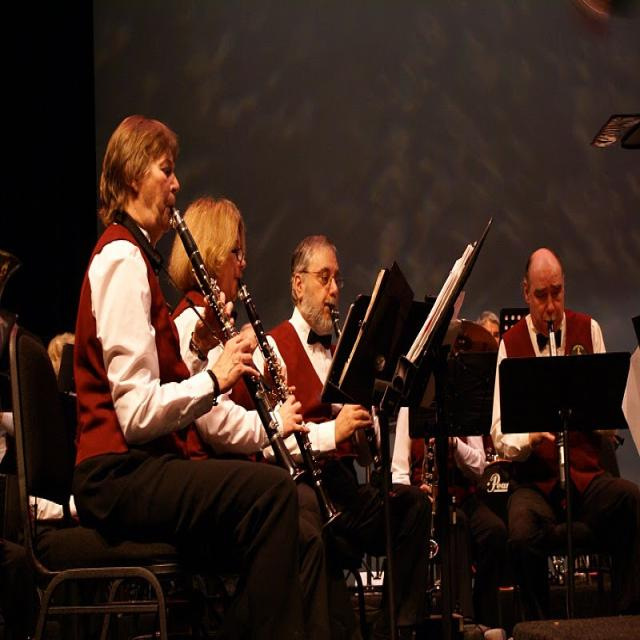clarinet: (164, 202, 309, 493), (233, 276, 343, 533), (325, 304, 392, 499), (421, 433, 440, 608)
drums: (466, 454, 535, 594)
